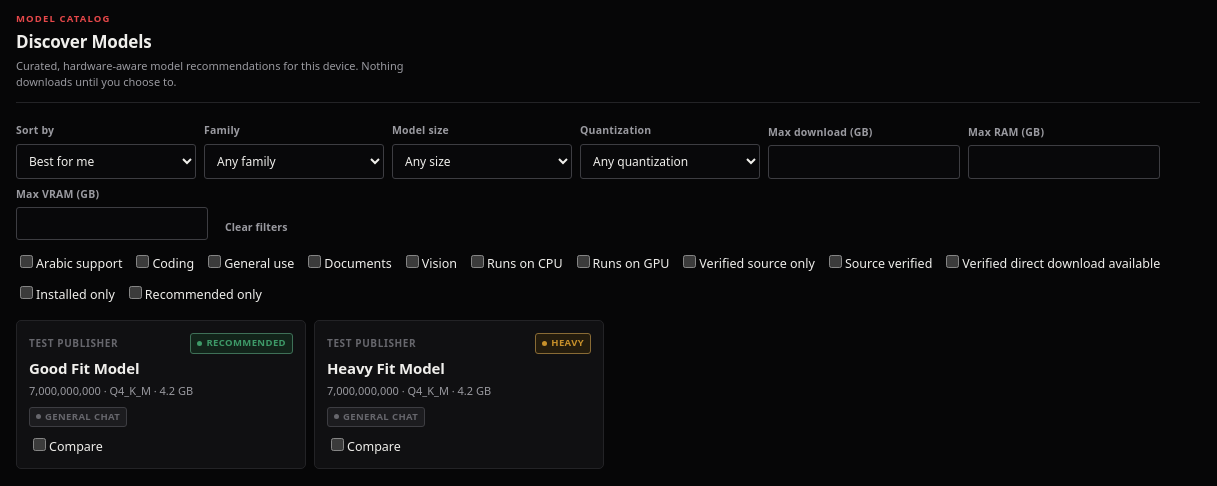
Test: Discover page — recommendation-engine-v2 integration (Stage B.6) › the 'recommended only' filter hides builds whose fit state is not good/excellent
This screenshot has width=1217, height=486.
Check: the text "Good Fit Model" is shown, box [29,358,139,378]
Click the text "Recommended only" at (193, 294), box [125,283,262,304]
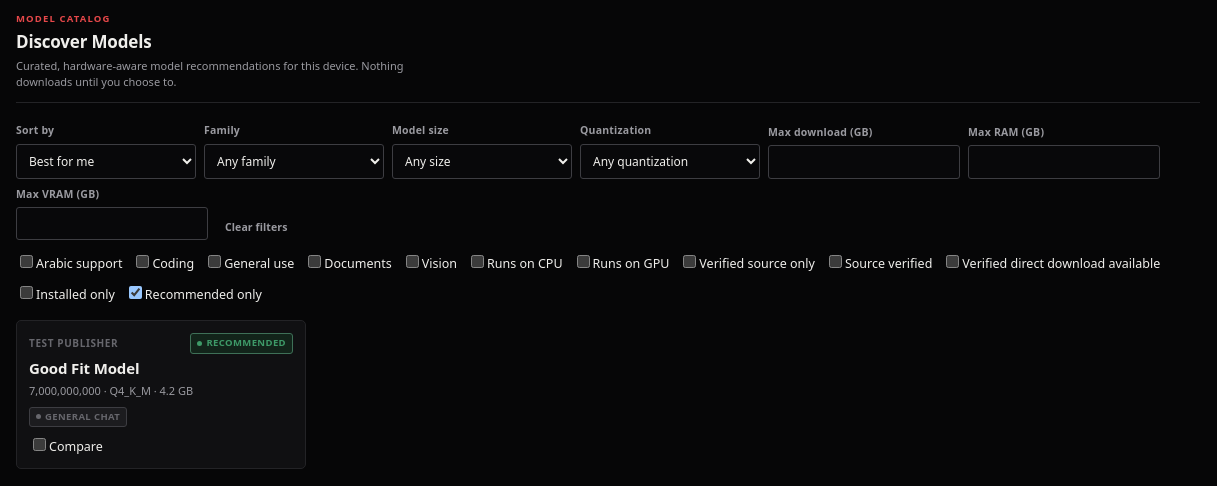
Check: the text "Good Fit Model" is shown, box [29,358,139,378]
Check: the button "Heavy Fit Model" is gone
